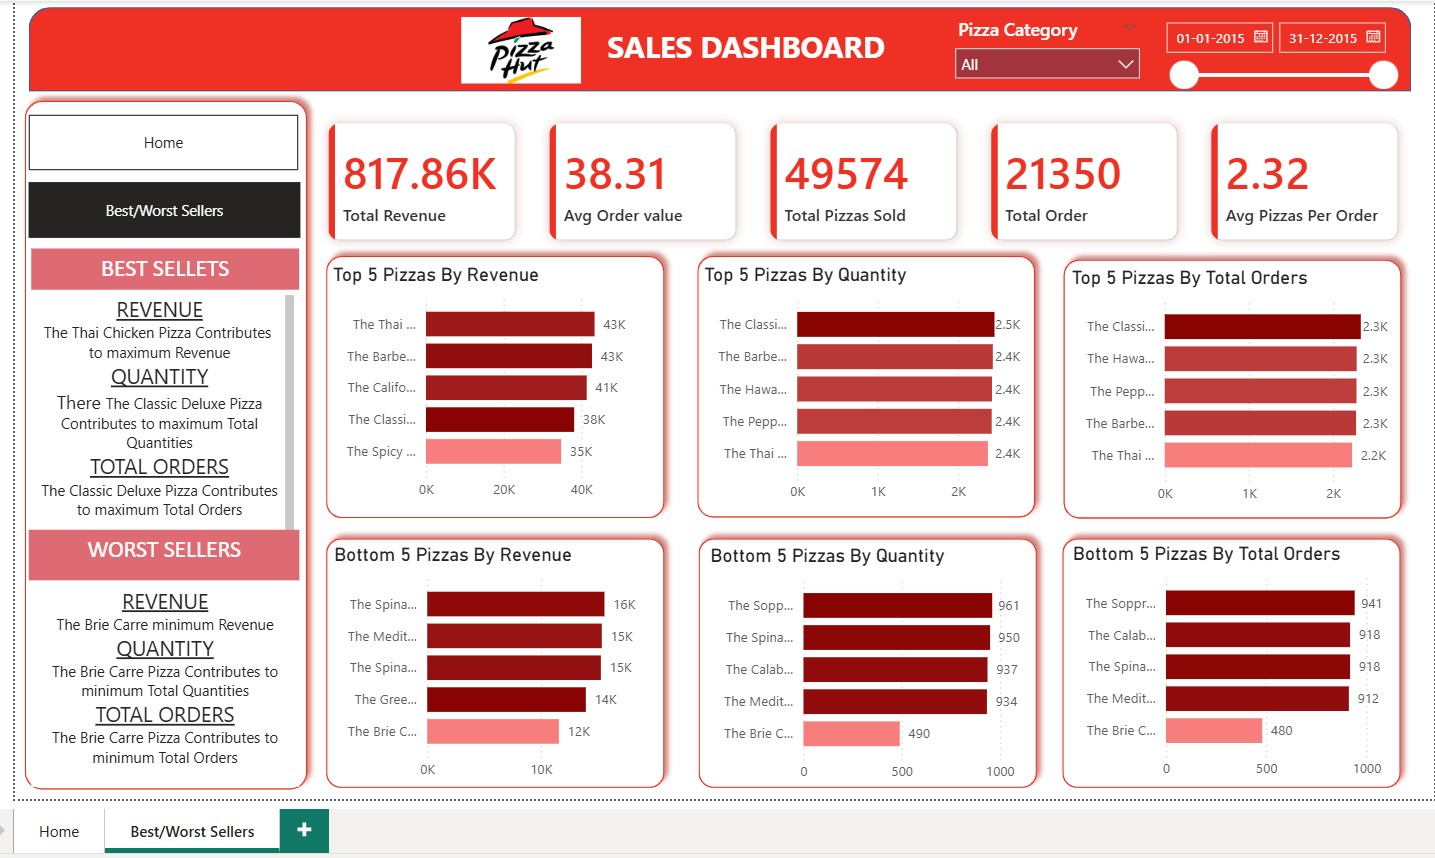

This screenshot's page, from the dashboard's own definition file:
{"tool":"powerbi","page":{"name":"Best/Worst Sellers","canvas":[1280,720],"ordinal":1},"visuals":[{"type":"cardVisual","fields":{"Data":["pizza_sales.Total Revenue","pizza_sales.Avg Order value","pizza_sales.Total Pizzas Sold","pizza_sales.Total Order","pizza_sales.Avg Pizzas Per Order"]},"box":[254.7,82.7,1025.3,162.7],"z":0},{"type":"shape","box":[12,5.3,1246.7,76],"z":1000},{"type":"textbox","box":[519.7,18.3,278.8,50.1],"z":2000},{"type":"shape","box":[271.4,475.7,322.9,242.9],"z":3000},{"type":"shape","box":[0,81.2,272.5,638.8],"z":4000},{"type":"textbox","box":[14.7,222.7,241.3,37.3],"z":5000},{"type":"textbox","box":[12,260,244,226.7],"z":6000},{"type":"textbox","box":[12,477.3,244,45.3],"z":7000},{"type":"textbox","box":[14.7,522.7,241.3,185.3],"z":8000},{"type":"slicer","fields":{"Values":["pizza_sales.pizza_category"]},"box":[837.3,9.3,186.7,66.7],"z":9000},{"type":"slicer","fields":{"Values":["pizza_sales.order_date"]},"box":[1025.3,9.3,229.3,73.3],"z":10000},{"type":"shape","box":[271.4,221.4,322.9,254.3],"z":11000},{"type":"shape","box":[606.2,221.2,322.5,253.8],"z":12000},{"type":"shape","box":[936.2,223.8,322.5,251.2],"z":13000},{"type":"shape","box":[607.1,475.7,322.9,242.9],"z":14000},{"type":"shape","box":[935.7,475.7,322.9,242.9],"z":15000},{"type":"barChart","title":"Top 5 Pizzas By Revenue","fields":{"Category":["pizza_sales.pizza_name"],"Y":["pizza_sales.Total Revenue"]},"box":[281.8,236.7,302.1,222],"z":16000},{"type":"barChart","title":"Bottom 5 Pizzas By Revenue","fields":{"Category":["pizza_sales.pizza_name"],"Y":["pizza_sales.Total Revenue"]},"box":[282.9,489.2,302.1,222],"z":17000},{"type":"barChart","title":"Top 5 Pizzas By Quantity","fields":{"Category":["pizza_sales.pizza_name"],"Y":["pizza_sales.Total Pizzas Sold"]},"box":[616.5,236.7,302.1,224.3],"z":18000},{"type":"barChart","title":"Bottom 5 Pizzas By Quantity","fields":{"Category":["pizza_sales.pizza_name"],"Y":["pizza_sales.Total Pizzas Sold"]},"box":[622.2,490.3,302.1,223.2],"z":19000},{"type":"barChart","title":"Top 5 Pizzas By Total Orders","fields":{"Category":["pizza_sales.pizza_name"],"Y":["pizza_sales.Total Order"]},"box":[947.9,238.9,302.1,223.2],"z":20000},{"type":"barChart","title":"Bottom 5 Pizzas By Total Orders","fields":{"Category":["pizza_sales.pizza_name"],"Y":["pizza_sales.Total Order"]},"box":[949.2,487.5,302.5,222.5],"z":21000},{"type":"pageNavigator","box":[12.5,163.8,245,50],"z":22000},{"type":"pageNavigator","box":[12.5,102.5,243.8,50],"z":23000},{"type":"image","box":[402.3,0,107.6,89.3],"z":24000}]}

Visuals, with their boxes on the page's 1280x720 design canvas (x1, y1, x2, y2). These are canvas units, not pixel positions in the 1435x858 screenshot, which may show the page scaled, cropped or inside an application window:
cardVisual - pizza_sales.Total Revenue x pizza_sales.Avg Order value: 255:83:1280:245
shape: 12:5:1259:81
textbox: 520:18:798:68
shape: 271:476:594:719
shape: 0:81:272:720
textbox: 15:223:256:260
textbox: 12:260:256:487
textbox: 12:477:256:523
textbox: 15:523:256:708
slicer - pizza_sales.pizza_category: 837:9:1024:76
slicer - pizza_sales.order_date: 1025:9:1255:83
shape: 271:221:594:476
shape: 606:221:929:475
shape: 936:224:1259:475
shape: 607:476:930:719
shape: 936:476:1259:719
"Top 5 Pizzas By Revenue" barChart: 282:237:584:459
"Bottom 5 Pizzas By Revenue" barChart: 283:489:585:711
"Top 5 Pizzas By Quantity" barChart: 616:237:919:461
"Bottom 5 Pizzas By Quantity" barChart: 622:490:924:714
"Top 5 Pizzas By Total Orders" barChart: 948:239:1250:462
"Bottom 5 Pizzas By Total Orders" barChart: 949:488:1252:710
pageNavigator: 12:164:258:214
pageNavigator: 12:102:256:152
image: 402:0:510:89
